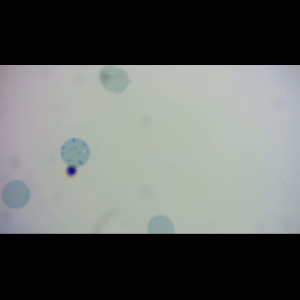aggregate reticulocyte: (60, 137, 91, 167)
erythrocyte: (99, 65, 131, 95)
punctate reticulocyte: (1, 178, 32, 210)
